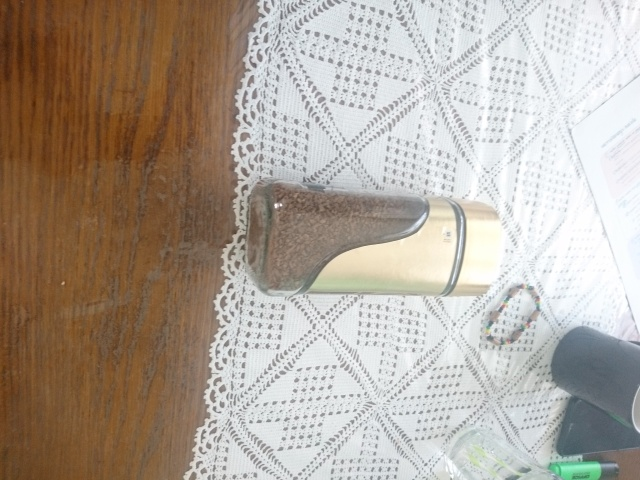Nescafe Gold 225g: (241, 175, 505, 300)
